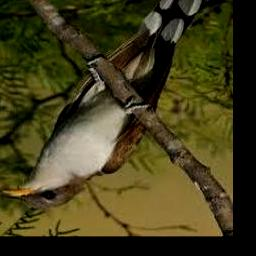Cuckoo: (0, 0, 215, 208)
